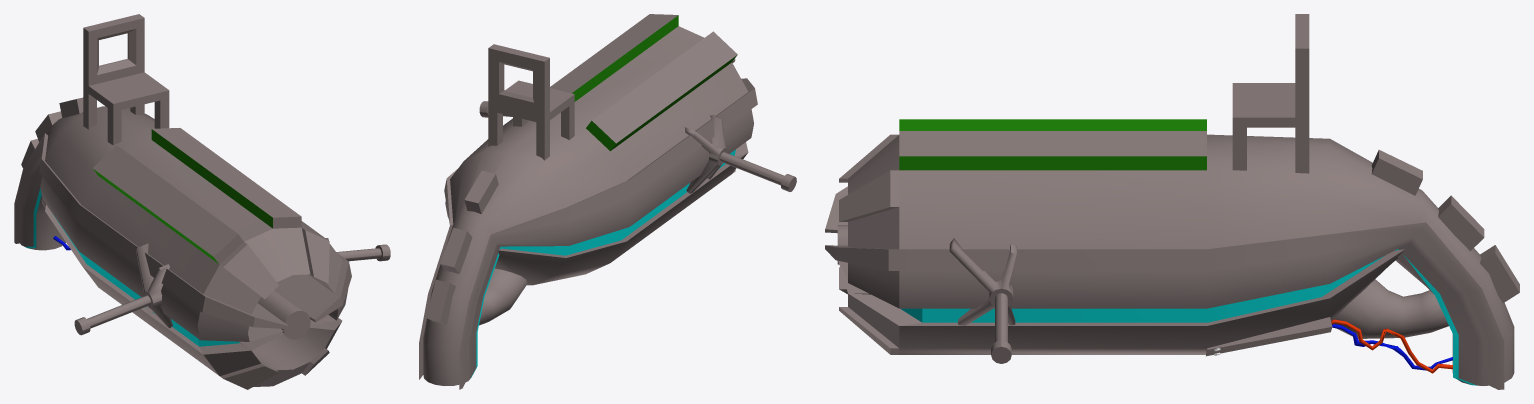
Rendered from chair_gun.glb.
3 views of the same model, side by side, from view 1: azimuth 30°, elevation 25°; view 2: azimuth 150°, elevation 25°; view 3: azimuth 270°, elevation 25° (orthographic). The views are drawn at different scales.
Visible parts, largest first — view 1: Body, Sights, HandleRight, BodyDetails, HandleLeft; view 2: Body, Sights, BodyDetails, HandleRight, TriggerGuard; view 3: Body, Sights, TriggerGuard, BodyDetails, HandleLeft, RedWire.
Boxes of the visible parts, left/top/right/bottom form: Body: left=14, top=106, right=351, bottom=389; Sights: left=83, top=14, right=169, bottom=145; HandleRight: left=74, top=243, right=172, bottom=335; BodyDetails: left=21, top=97, right=83, bottom=168; HandleLeft: left=325, top=238, right=390, bottom=261; Body: left=419, top=14, right=757, bottom=389; Sights: left=488, top=44, right=574, bottom=160; BodyDetails: left=426, top=170, right=498, bottom=324; HandleRight: left=684, top=115, right=796, bottom=193; TriggerGuard: left=479, top=268, right=527, bottom=325; Body: left=825, top=119, right=1514, bottom=389; Sights: left=1232, top=14, right=1309, bottom=173; TriggerGuard: left=1333, top=279, right=1448, bottom=338; BodyDetails: left=1371, top=150, right=1519, bottom=303; HandleLeft: left=949, top=238, right=1016, bottom=363; RedWire: left=1331, top=319, right=1452, bottom=373.
Bounding box in the file's own units: 0.4426 × 0.3719 × 0.6774.
